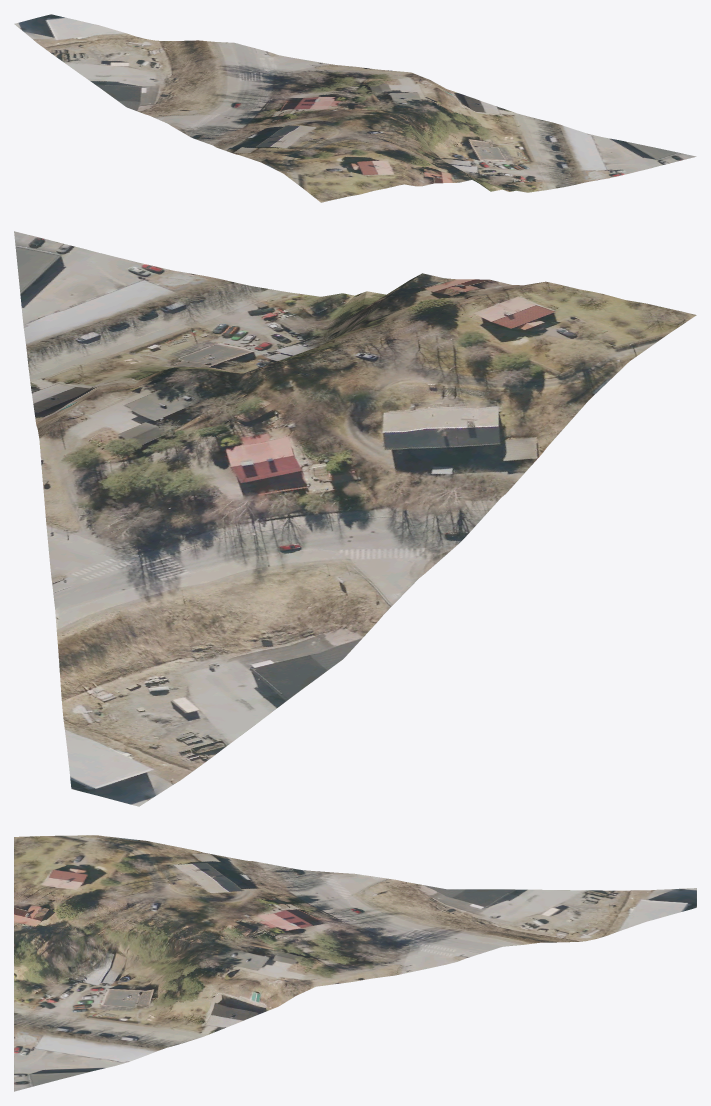
File: CM_Terrain_24492097_6819384.fbx
The picture shows the model from 3 angles, top to bottom: view 1: azimuth 30°, elevation 25°; view 2: azimuth 150°, elevation 25°; view 3: azimuth 270°, elevation 25°; orthographic projection. The views are drawn at different scales.
Parts seen in each view (by area): view 1: CM_Terrain_24492097_6819384_LOD0; view 2: CM_Terrain_24492097_6819384_LOD0; view 3: CM_Terrain_24492097_6819384_LOD0.
Boxes of the visible parts, x1,y1,x2,y2 form: CM_Terrain_24492097_6819384_LOD0: (14,14,696,202); CM_Terrain_24492097_6819384_LOD0: (14,231,696,806); CM_Terrain_24492097_6819384_LOD0: (14,835,696,1091).
Size of what is drawn, in the model's own units: 145 by 18.93 by 205.
